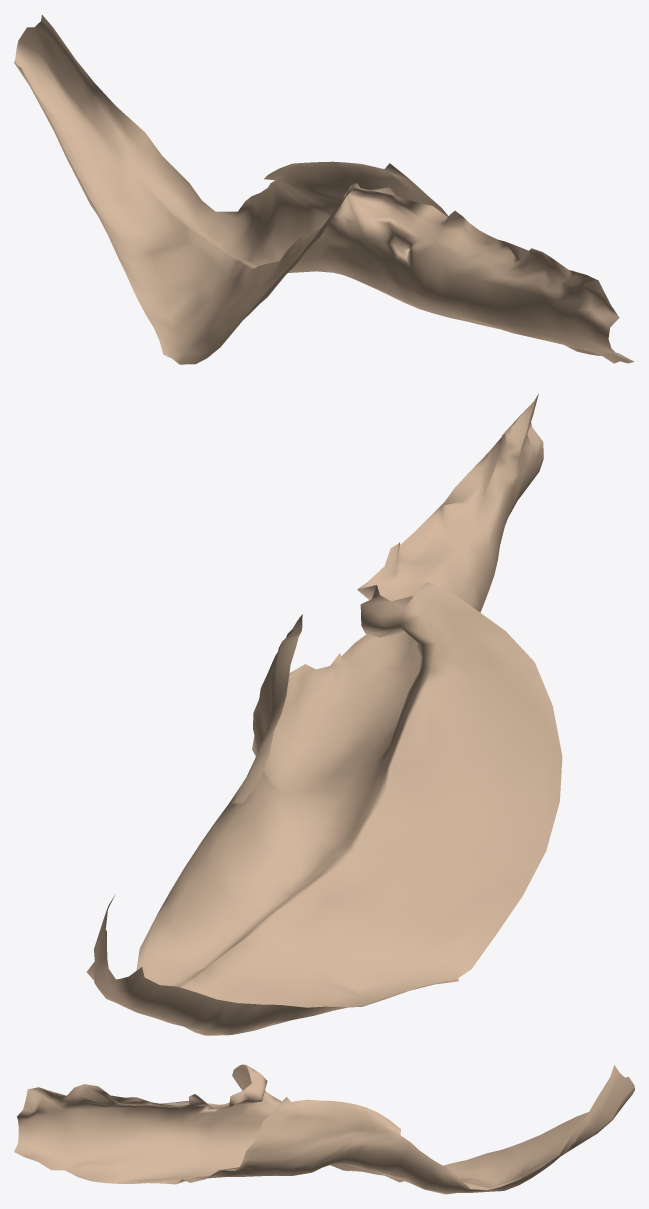
3 renders of one model, top to bottom at view 1: azimuth 30°, elevation 25°; view 2: azimuth 150°, elevation 25°; view 3: azimuth 270°, elevation 25°, orthographic. The views are drawn at different scales.
Parts seen in each view (by area): view 1: 右侧髂腰筋膜; view 2: 右侧髂腰筋膜; view 3: 右侧髂腰筋膜.
Part boxes in pixels (x1,y1,x2,y2): 右侧髂腰筋膜: (14, 15, 634, 364); 右侧髂腰筋膜: (86, 394, 562, 1035); 右侧髂腰筋膜: (14, 1064, 634, 1194).
Bounding box in the file's own units: 0.1431 × 0.1262 × 0.4966.
